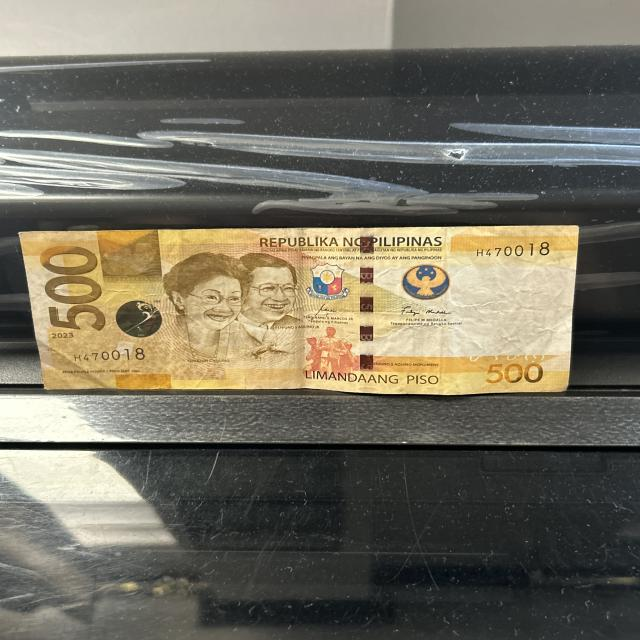concealed_value: (96, 236, 164, 282)
optically_variable_device: (112, 300, 164, 339)
watermark: (451, 259, 561, 361)
